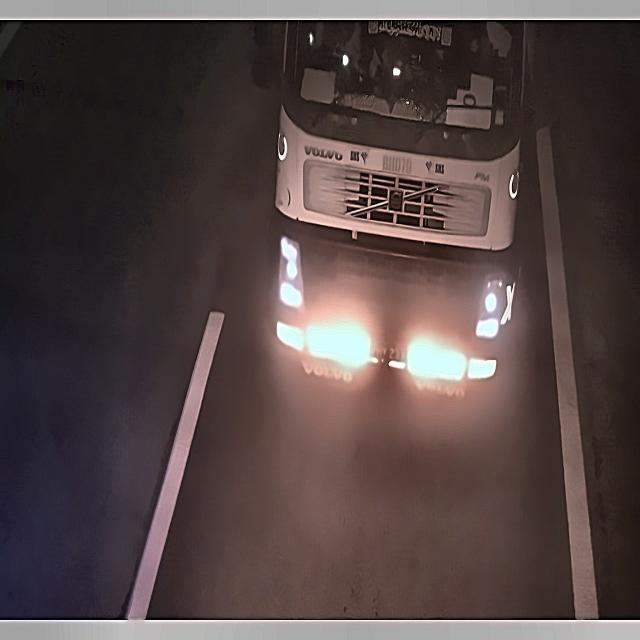car: (365, 332, 406, 372)
